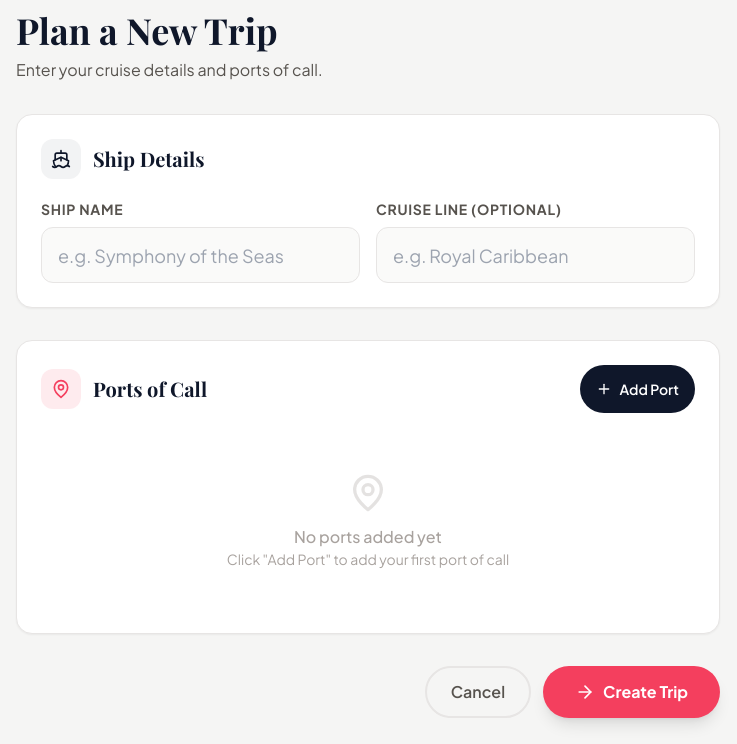
it: TripSetup — cruise line autocomplete › selecting a suggestion sets the cruise line value
The width and height of the screenshot is (737, 744).
Type "MSC" into the field with test id "cruise-line-input" at (536, 255), box [376,227,695,283]
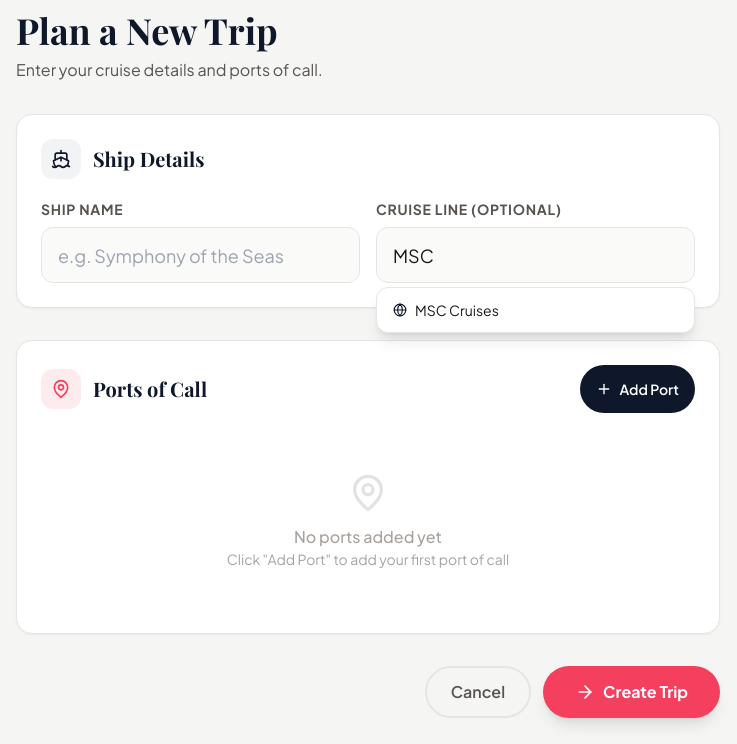
Result: the button "MSC Cruises" is shown
Press the mouse on the button "MSC Cruises" at (457, 310), box [377,288,694,332]
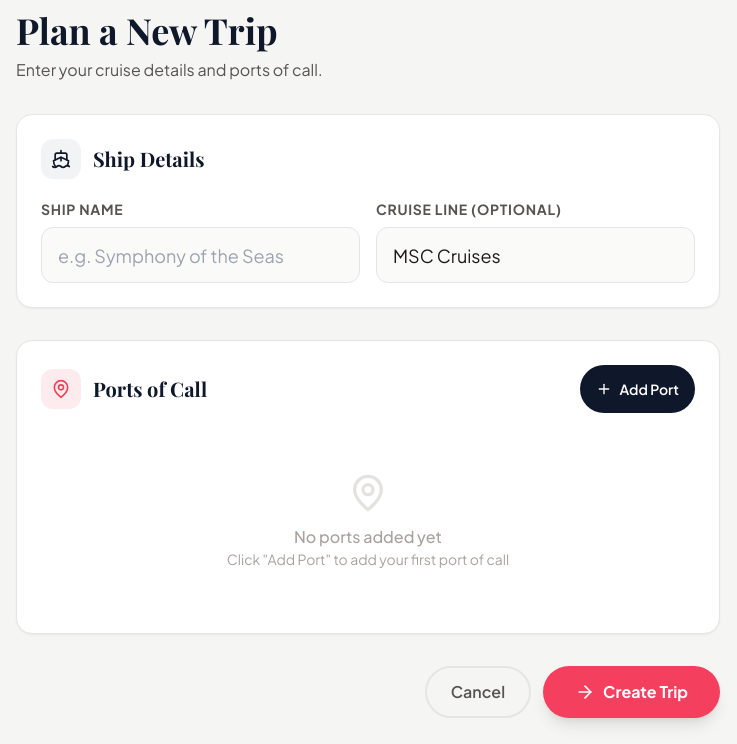
Result: the field with test id "cruise-line-input" holds "MSC Cruises" at [376,227,695,283]
